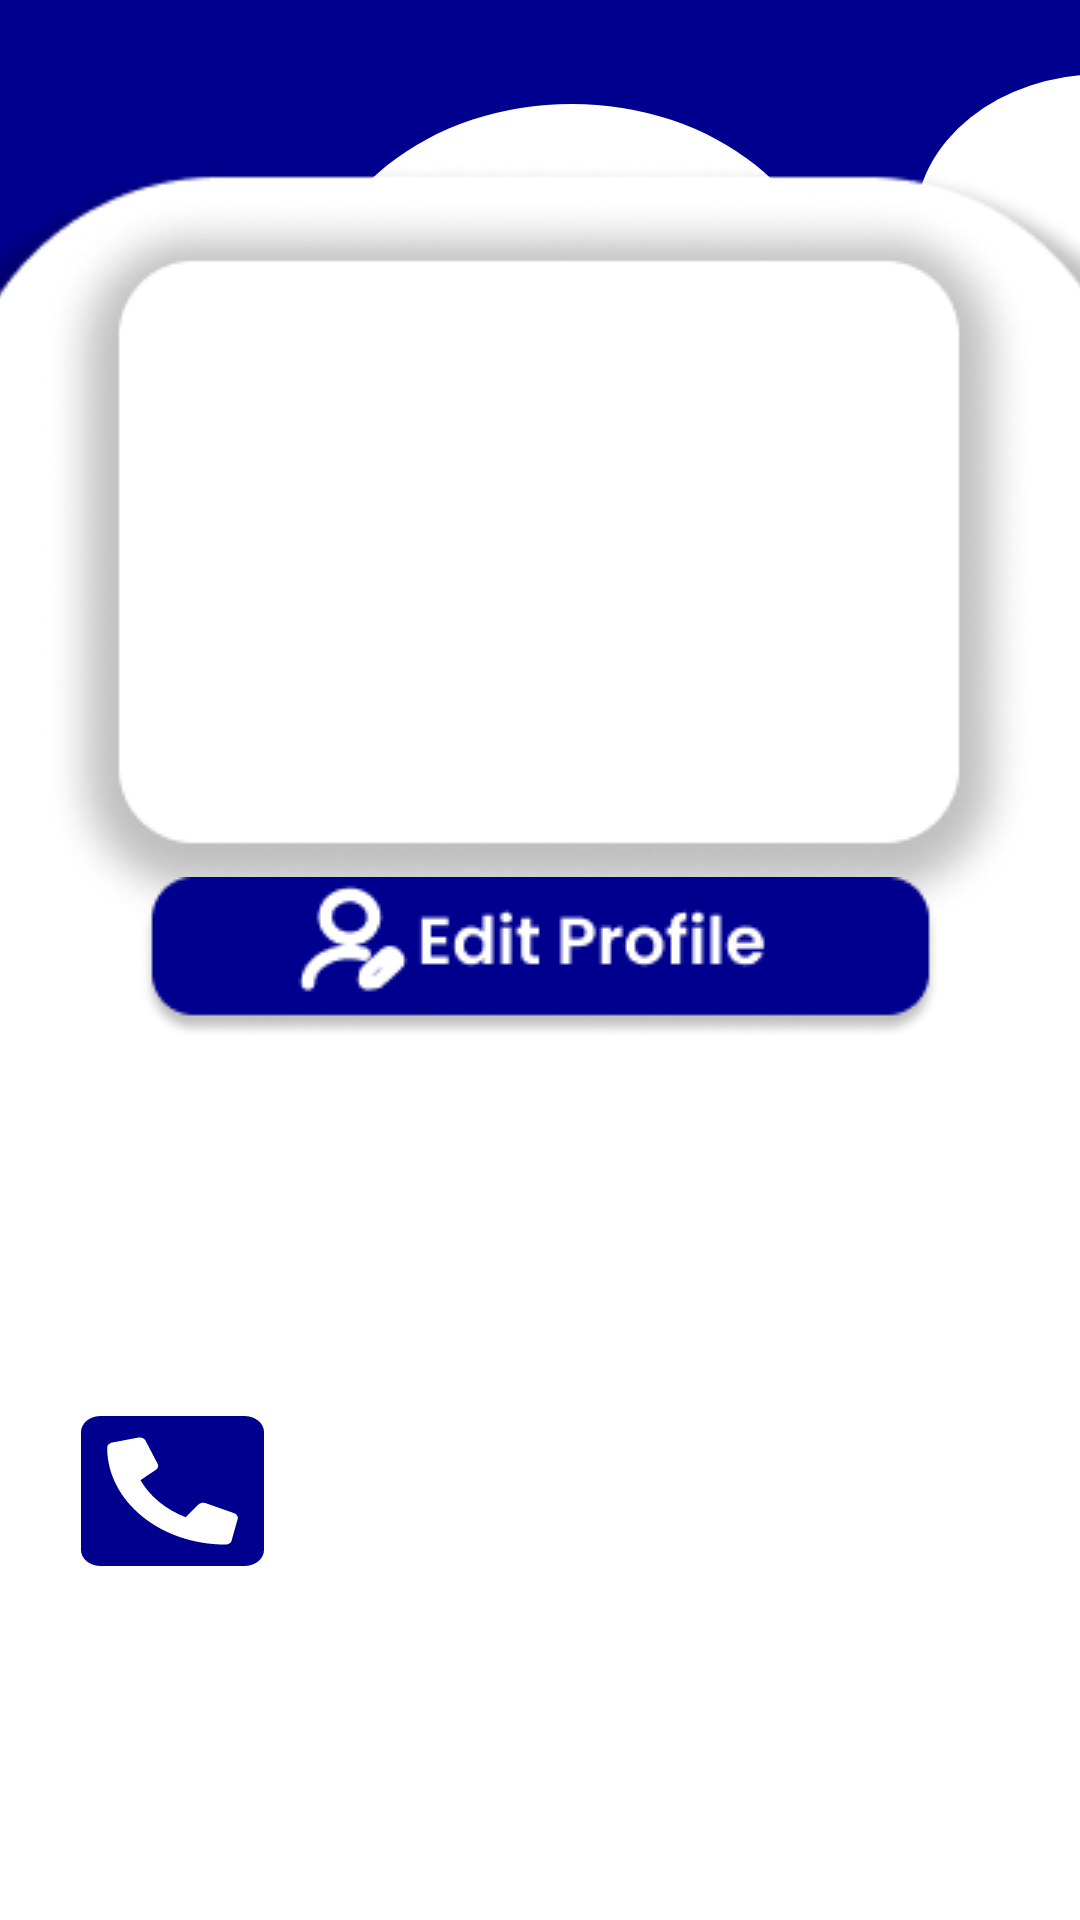

Point at icon controls on the screen. Image size 1080 x 1920, points as point (x, y).
phone number: point (172, 1491)
